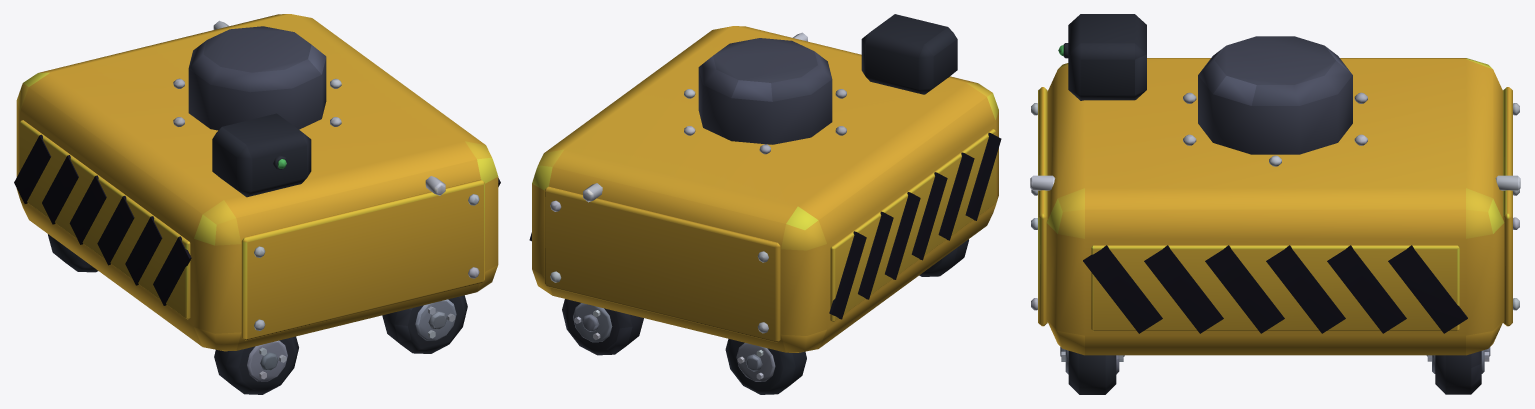
File: SM_Station_SharkRig_Trolley.fbx
3 views of the same model, side by side, from view 1: azimuth 30°, elevation 25°; view 2: azimuth 150°, elevation 25°; view 3: azimuth 270°, elevation 25° (orthographic). The views are drawn at different scales.
Parts seen in each view (by area): view 1: SM_Station_SharkRig_Trolley; view 2: SM_Station_SharkRig_Trolley; view 3: SM_Station_SharkRig_Trolley.
Part boxes in pixels (left/top/right/bottom): SM_Station_SharkRig_Trolley: left=14, top=14, right=500, bottom=394; SM_Station_SharkRig_Trolley: left=529, top=14, right=1001, bottom=394; SM_Station_SharkRig_Trolley: left=1030, top=14, right=1520, bottom=394.
Bounding box in the file's own units: 51.81 × 41.25 × 64.33.
